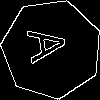A: (26, 24, 77, 65)
